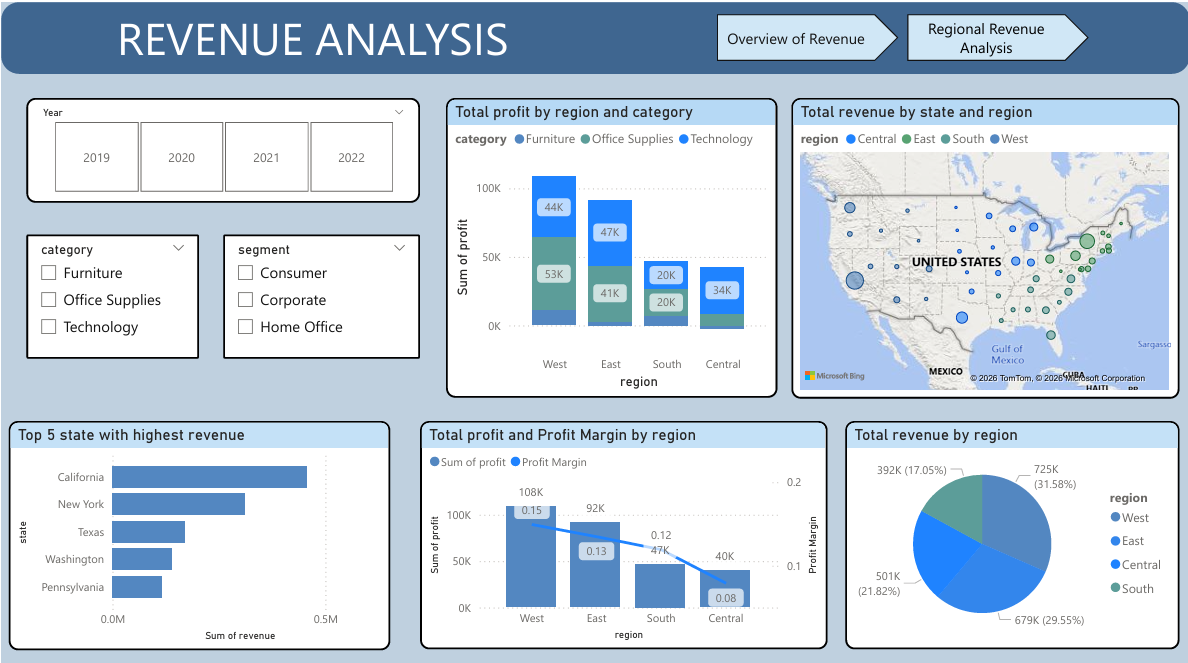

Layout of this report page (visuals, bound fields, positions):
{"tool":"powerbi","page":{"name":"Regional Revenue Analysis","canvas":[1280,720],"ordinal":1},"visuals":[{"type":"barChart","title":"Top 5 state with highest revenue ","fields":{"Y":["Sum(Online Retail Store.revenue)"],"Category":["Online Retail Store.state"]},"box":[7.5,451.2,411.2,246.2],"z":0},{"type":"pieChart","title":"Total revenue by region","fields":{"Y":["Sum(Online Retail Store.revenue)"],"Category":["Online Retail Store.region"]},"box":[908.6,451.4,360,245.7],"z":1000},{"type":"lineClusteredColumnComboChart","title":"Total profit and Profit Margin by region","fields":{"Category":["Online Retail Store.region"],"Y2":["Online Retail Store.Profit Margin"],"Y":["Sum(Online Retail Store.profit)"]},"box":[451.4,451.4,438.6,245.7],"z":2000},{"type":"slicer","fields":{"Values":["Online Retail Store.segment"]},"box":[238.6,250,212.9,134.3],"z":3000},{"type":"slicer","fields":{"Values":["Online Retail Store.category"]},"box":[27.1,250,185.7,134.3],"z":4000},{"type":"shape","box":[0,0,1280,77.1],"z":5000},{"type":"textbox","box":[120,0,465.7,77.1],"z":6000},{"type":"pageNavigator","box":[771.4,12.9,400,50],"z":7000},{"type":"slicer","fields":{"Values":["DateTable.Year"]},"box":[27.1,102.9,424.3,112.9],"z":8000},{"type":"lineStackedColumnComboChart","title":"Total profit by region and category","fields":{"Category":["Online Retail Store.region"],"Series":["Online Retail Store.category"],"Y":["Sum(Online Retail Store.profit)"]},"box":[478.6,102.9,357.1,322.9],"z":9000},{"type":"map","title":"Total revenue by state and region","fields":{"Category":["Online Retail Store.state"],"Size":["Sum(Online Retail Store.revenue)"],"Series":["Online Retail Store.region"]},"box":[851.4,102.9,417.1,324.3],"z":10000}]}

Visuals, with their boxes in screenshot pixels (x1, y1, x2, y2), scaled from the page's 1280x720 canvas onto the 1188x663 screenshot:
"Top 5 state with highest revenue " barChart: select_region(7, 415, 389, 642)
"Total revenue by region" pieChart: select_region(843, 416, 1177, 642)
"Total profit and Profit Margin by region" lineClusteredColumnComboChart: select_region(419, 416, 826, 642)
slicer - Online Retail Store.segment: select_region(221, 230, 419, 354)
slicer - Online Retail Store.category: select_region(25, 230, 198, 354)
shape: select_region(0, 0, 1187, 71)
textbox: select_region(111, 0, 544, 71)
pageNavigator: select_region(716, 12, 1087, 58)
slicer - DateTable.Year: select_region(25, 95, 419, 199)
"Total profit by region and category" lineStackedColumnComboChart: select_region(444, 95, 776, 392)
"Total revenue by state and region" map: select_region(790, 95, 1177, 393)
